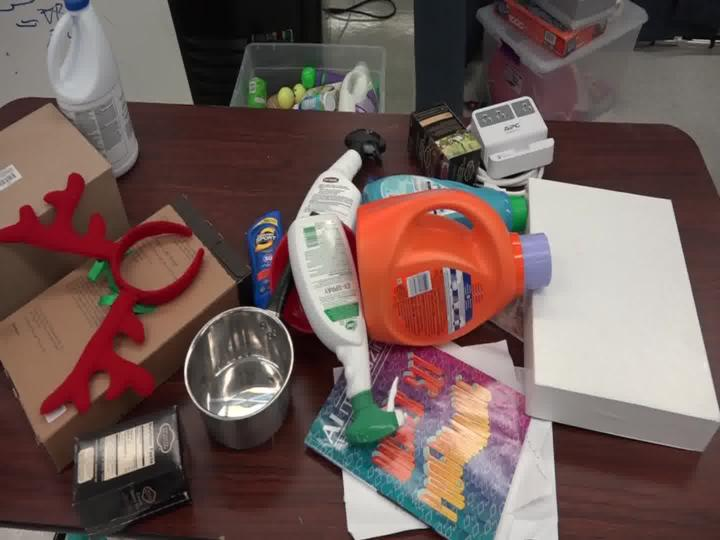downy: (336, 157, 533, 249)
